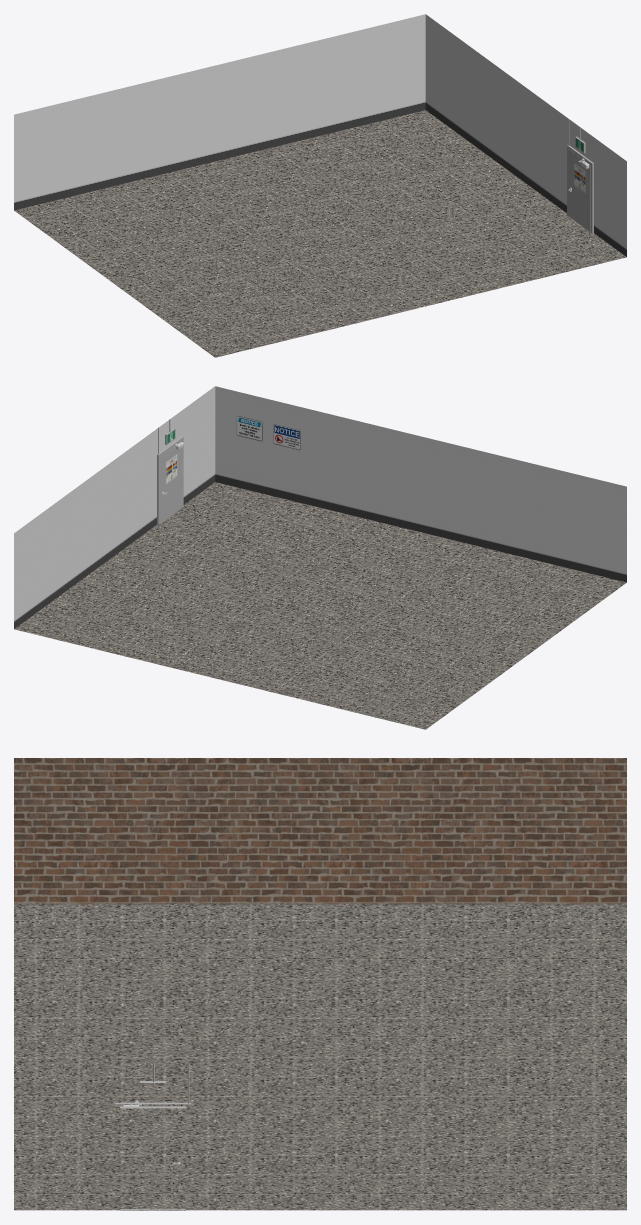
File: Room.gltf
The picture shows the model from 3 angles, top to bottom: view 1: azimuth 30°, elevation 25°; view 2: azimuth 150°, elevation 25°; view 3: azimuth 270°, elevation 25°; orthographic projection. The views are drawn at different scales.
Visible parts, largest first — view 1: floor_geo, walls_geo, Door_geo; view 2: floor_geo, walls_geo, Door_geo; view 3: floor_geo, walls_geo, Door_geo.
Part boxes in pixels (bbox=[...]): floor_geo: bbox=[14, 110, 626, 357]; walls_geo: bbox=[14, 14, 626, 256]; Door_geo: bbox=[567, 119, 593, 233]; floor_geo: bbox=[14, 482, 626, 729]; walls_geo: bbox=[14, 386, 626, 628]; Door_geo: bbox=[157, 419, 183, 524]; floor_geo: bbox=[14, 904, 626, 1210]; walls_geo: bbox=[14, 758, 626, 904]; Door_geo: bbox=[115, 1062, 191, 1210].
Size of the model in its own units: 1303 by 292 by 1100.
